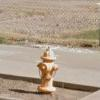Hydrant: (22, 39, 62, 97)
